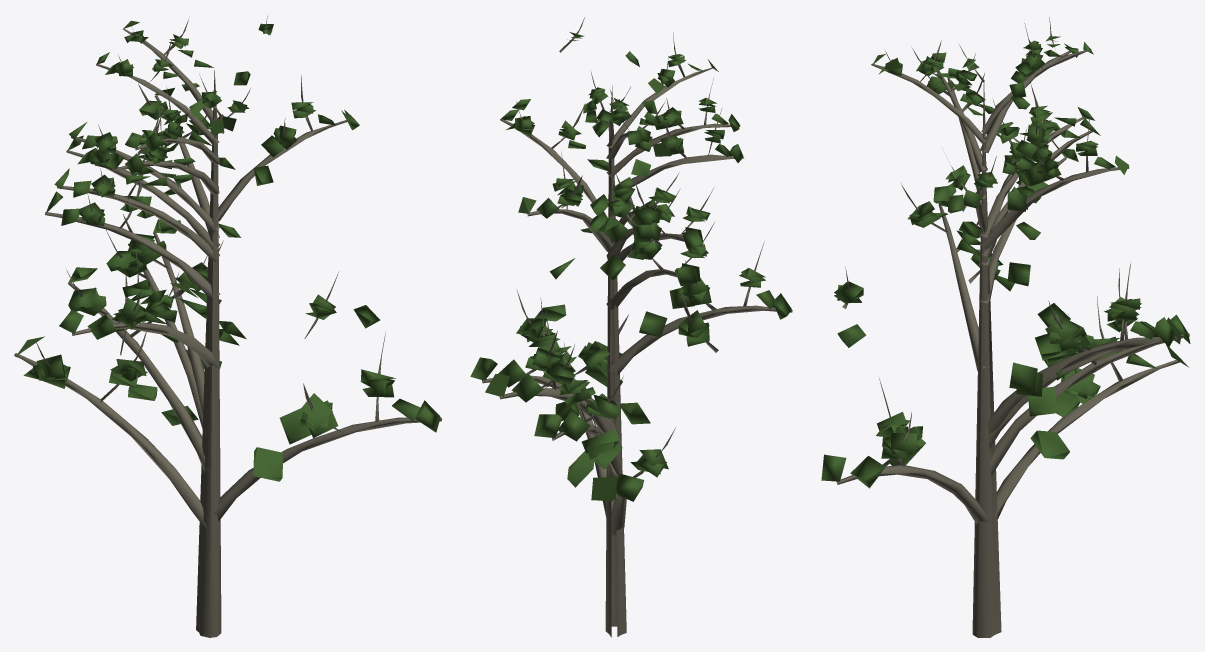
File: Tree_PinOak_005.fbx
3 views of the same model, side by side, from view 1: azimuth 30°, elevation 25°; view 2: azimuth 150°, elevation 25°; view 3: azimuth 270°, elevation 25° (orthographic). The views are drawn at different scales.
Parts seen in each view (by area): view 1: Tree_PinOak.005; view 2: Tree_PinOak.005; view 3: Tree_PinOak.005.
Boxes of the visible parts, x1,y1,x2,y2 form: Tree_PinOak.005: [14, 16, 441, 637]; Tree_PinOak.005: [470, 17, 792, 637]; Tree_PinOak.005: [821, 17, 1190, 637].
Bounding box in the file's own units: 1458 × 2665 × 1453.
